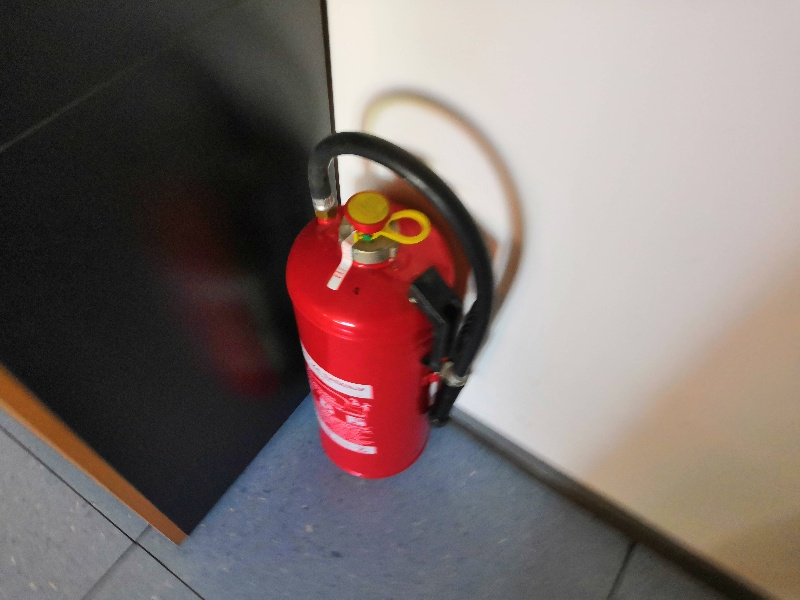vataparat: (286, 131, 490, 480)
